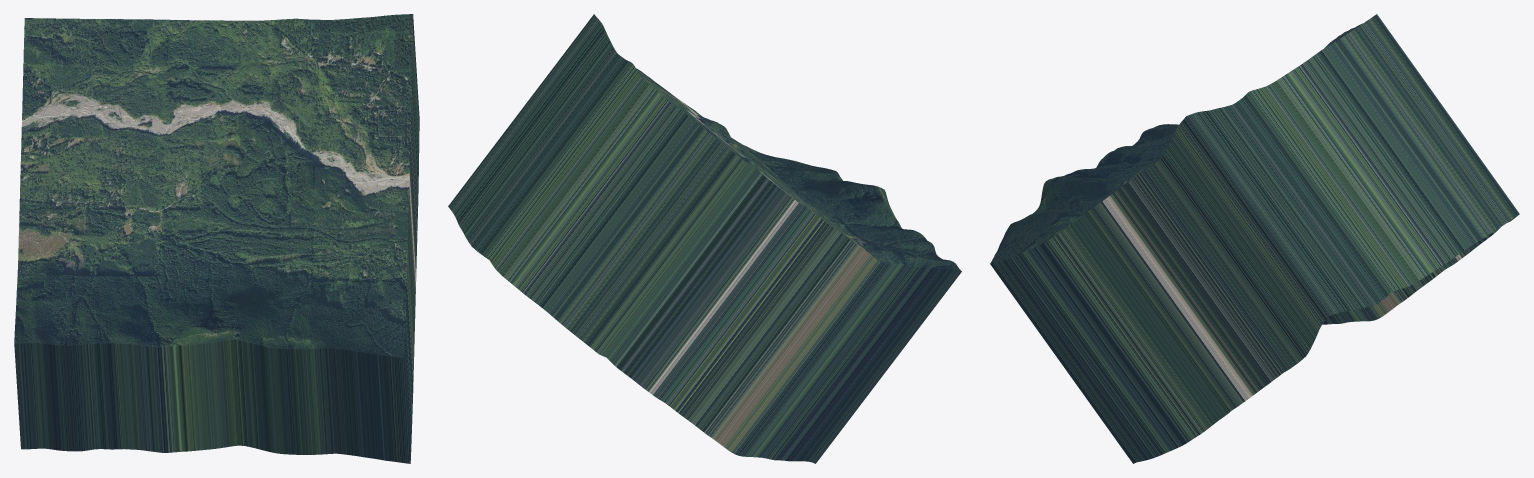
3 views of the same model, side by side, from view 1: azimuth 30°, elevation 25°; view 2: azimuth 150°, elevation 25°; view 3: azimuth 270°, elevation 25° (orthographic). The views are drawn at different scales.
Size of the model in its own units: 6147 by 4868 by 6462.
Materials: 1 (1 with a texture image).
